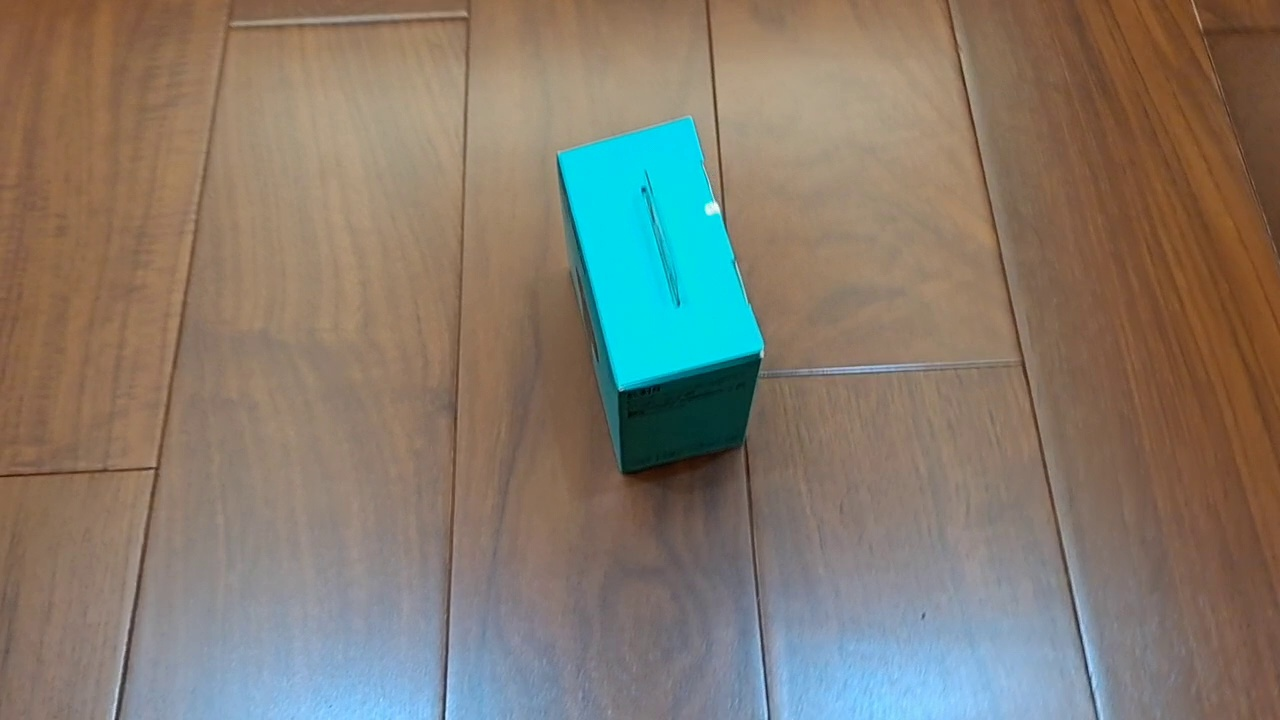webcam: (556, 115, 766, 476)
